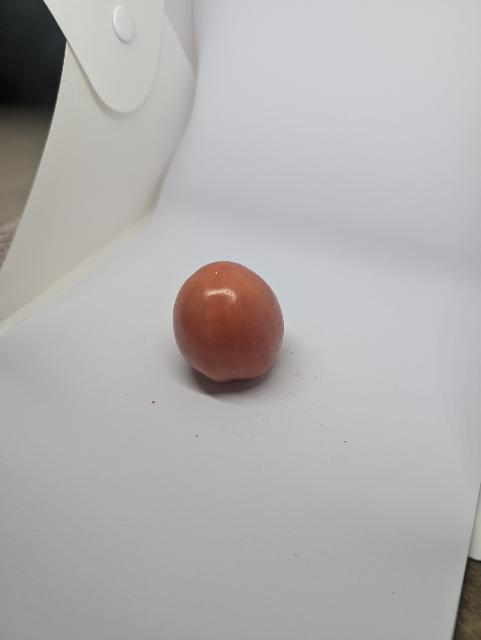red: (165, 242, 292, 405)
